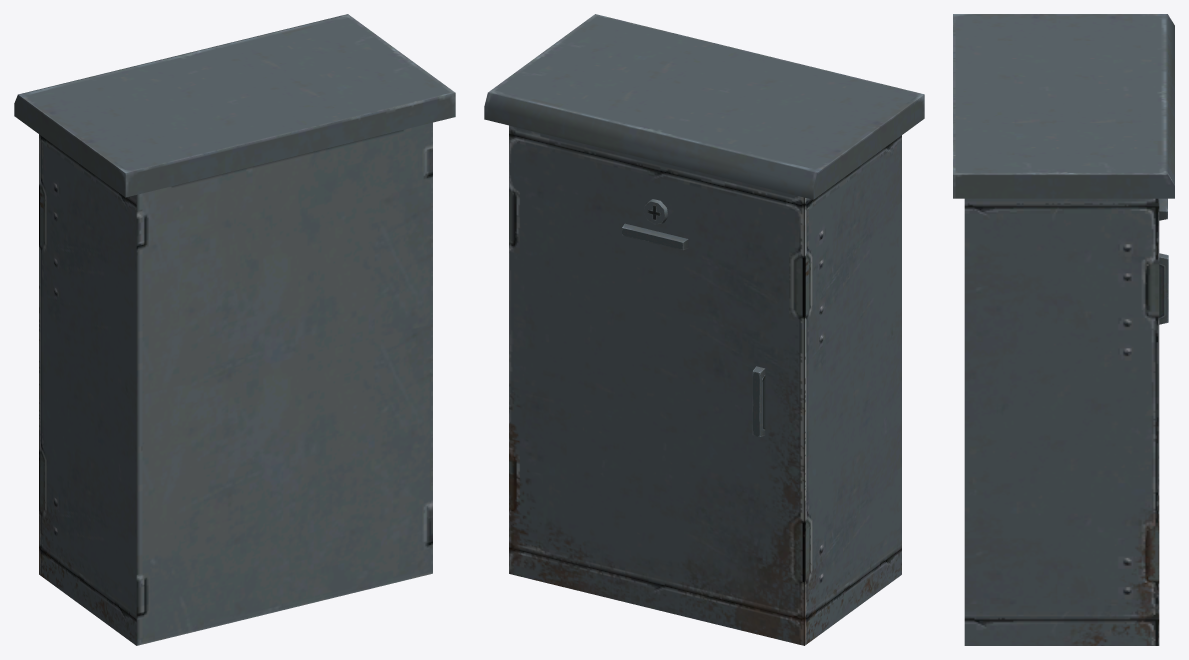
The model's file is Prop_Ctg02.glb.
3 renders of one model, left to right at view 1: azimuth 30°, elevation 25°; view 2: azimuth 150°, elevation 25°; view 3: azimuth 270°, elevation 25°, orthographic.
Visible parts, largest first — view 1: xiutz_ctg_02; view 2: xiutz_ctg_02; view 3: xiutz_ctg_02.
Part boxes in pixels (x1,y1,x2,y2): xiutz_ctg_02: (14, 14, 455, 645); xiutz_ctg_02: (484, 14, 924, 645); xiutz_ctg_02: (953, 14, 1174, 645).
Size of the model in its own units: 1.54 by 2.15 by 0.8994.
1 material, 1 textured.
